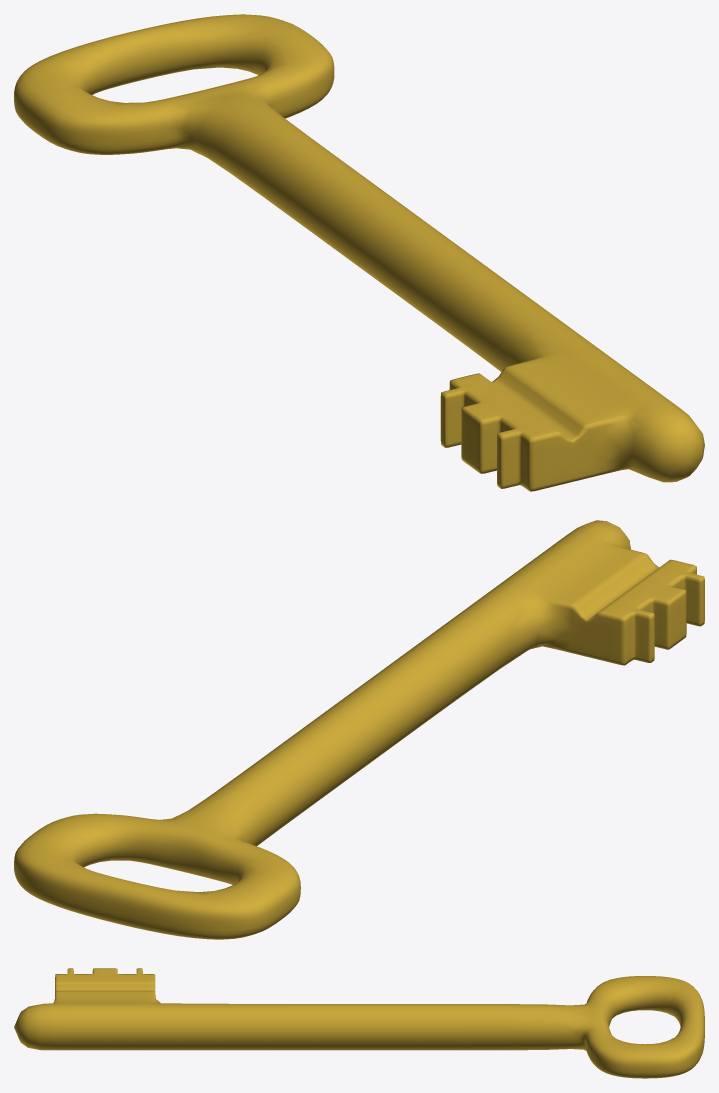
File: key.glb
The picture shows the model from 3 angles, top to bottom: view 1: azimuth 30°, elevation 25°; view 2: azimuth 150°, elevation 25°; view 3: azimuth 270°, elevation 25°; orthographic projection. The views are drawn at different scales.
Parts seen in each view (by area): view 1: Cylinder; view 2: Cylinder; view 3: Cylinder.
Part boxes in pixels (box(x1,y1,x2,y2)): Cylinder: box(14, 14, 704, 491); Cylinder: box(14, 520, 704, 939); Cylinder: box(14, 968, 704, 1078).
Size of the model in its own units: 201 by 46.45 by 689.
